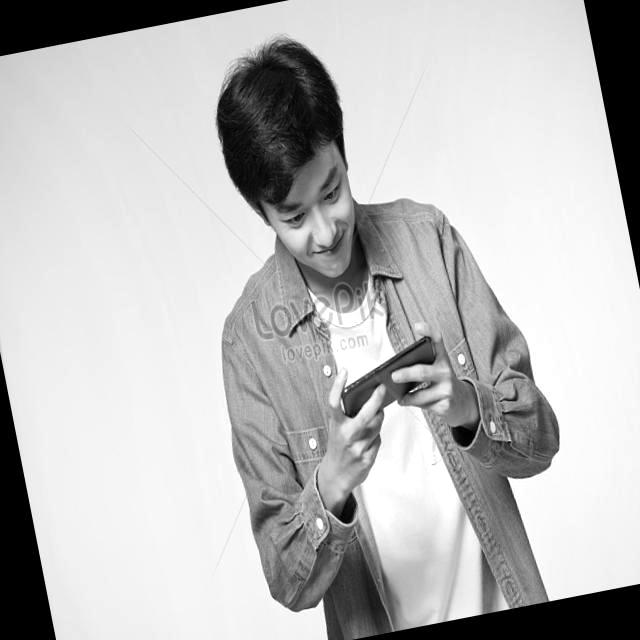phone: (332, 334, 444, 419)
